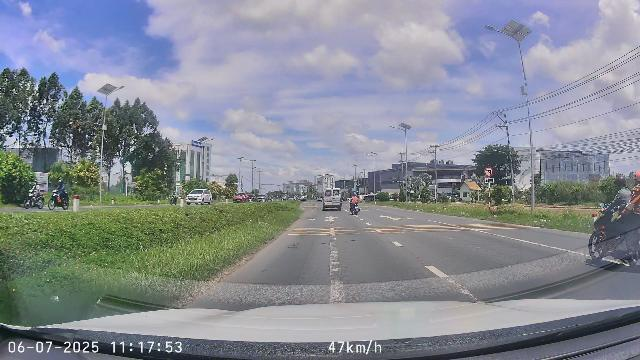123a-cam-re-trai: (484, 166, 494, 177)
